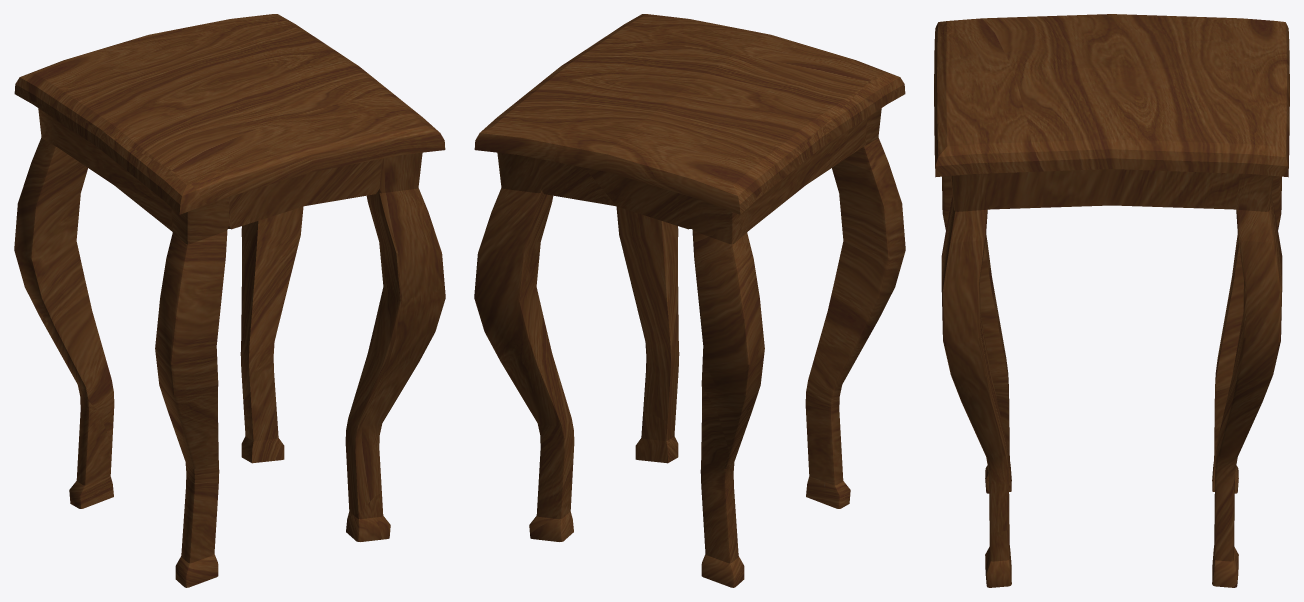
Rendered from Bedroom_BedsideTable.fbx.
The picture shows the model from 3 angles, left to right: view 1: azimuth 30°, elevation 25°; view 2: azimuth 150°, elevation 25°; view 3: azimuth 270°, elevation 25°; orthographic projection. The views are drawn at different scales.
Parts seen in each view (by area): view 1: BedsideTableUVd:pCube17; view 2: BedsideTableUVd:pCube17; view 3: BedsideTableUVd:pCube17.
Part boxes in pixels (<box>): BedsideTableUVd:pCube17: <box>14,14,445,587</box>; BedsideTableUVd:pCube17: <box>474,14,905,587</box>; BedsideTableUVd:pCube17: <box>934,14,1289,587</box>.
Bounding box in the file's own units: 72.35 × 109 × 75.4.
